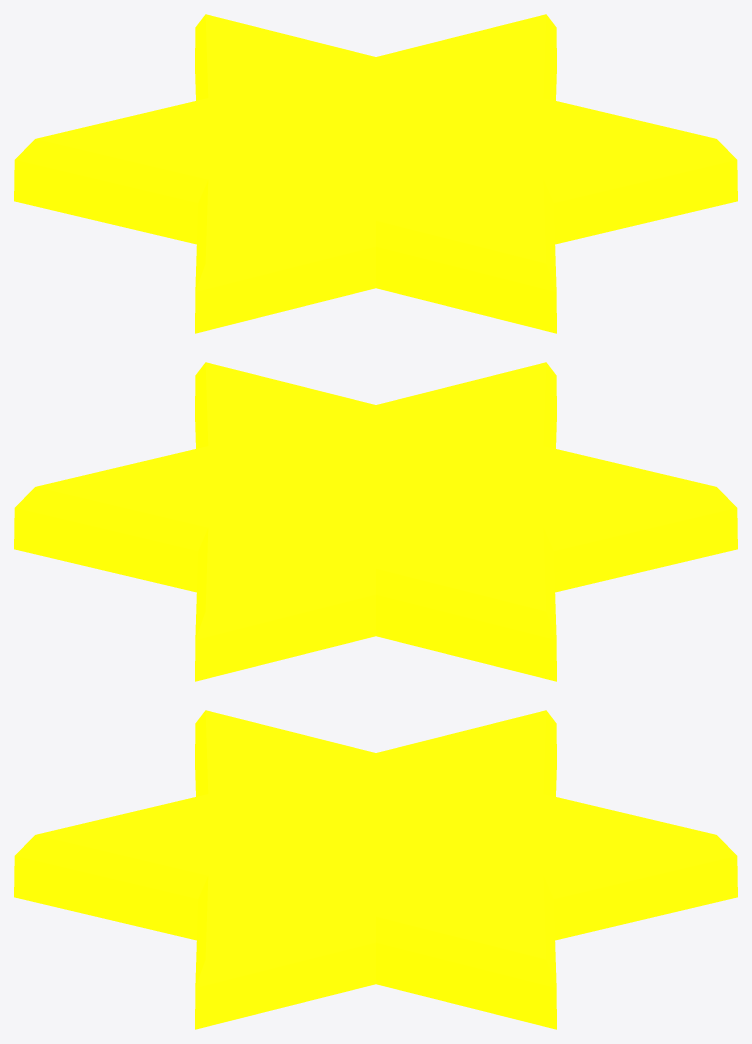
File: gingerbread-star-a.glb
3 views of the same model, one above another, from view 1: azimuth 30°, elevation 25°; view 2: azimuth 150°, elevation 25°; view 3: azimuth 270°, elevation 25° (orthographic).
Visible parts, largest first — view 1: gingerbread_star_a; view 2: gingerbread_star_a; view 3: gingerbread_star_a.
Part boxes in pixels (box(x1,y1,x2,y2)): gingerbread_star_a: box(14, 14, 737, 333); gingerbread_star_a: box(14, 362, 737, 681); gingerbread_star_a: box(14, 710, 737, 1029).
Size of the model in its own units: 0.0597 by 0.00656 by 0.069.
Materials: 1 (1 with a texture image).
